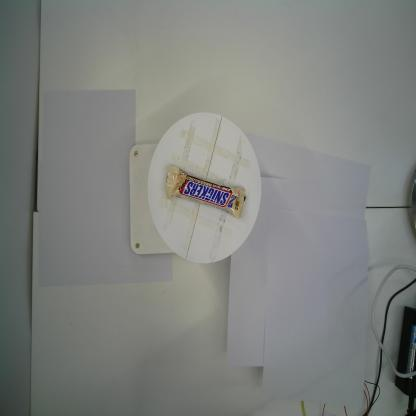Chocolate: (164, 163, 249, 222)
